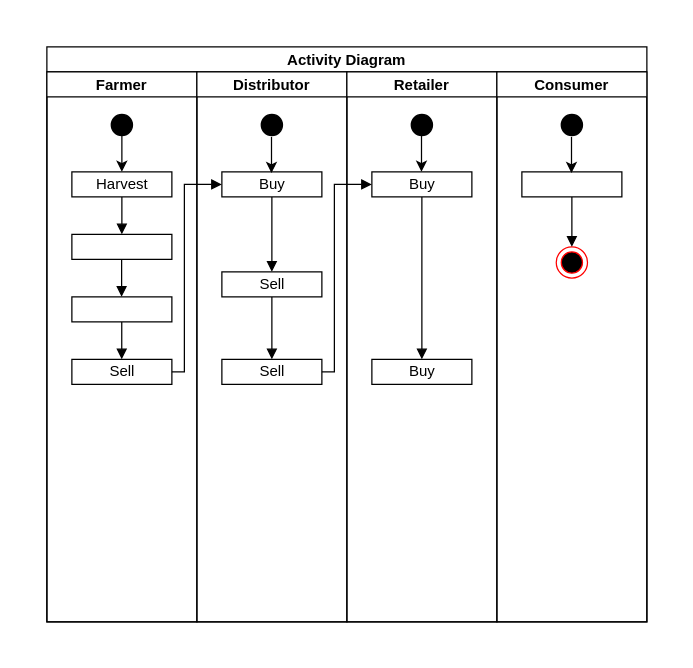
Some shapes in this 693 by 668 pixel diagram are drawn without their labels. The shapes that lost their labels are listed below. From the top down, each one's centre as x and y in pixels, then its label:
At point (571, 184): "Purchase".
At point (121, 246): "Process".
At point (121, 309): "Pack".
